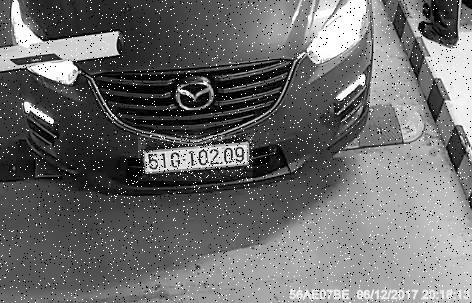License-plate: (140, 136, 256, 182)
